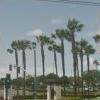Palm tree: (9, 18, 100, 99)
